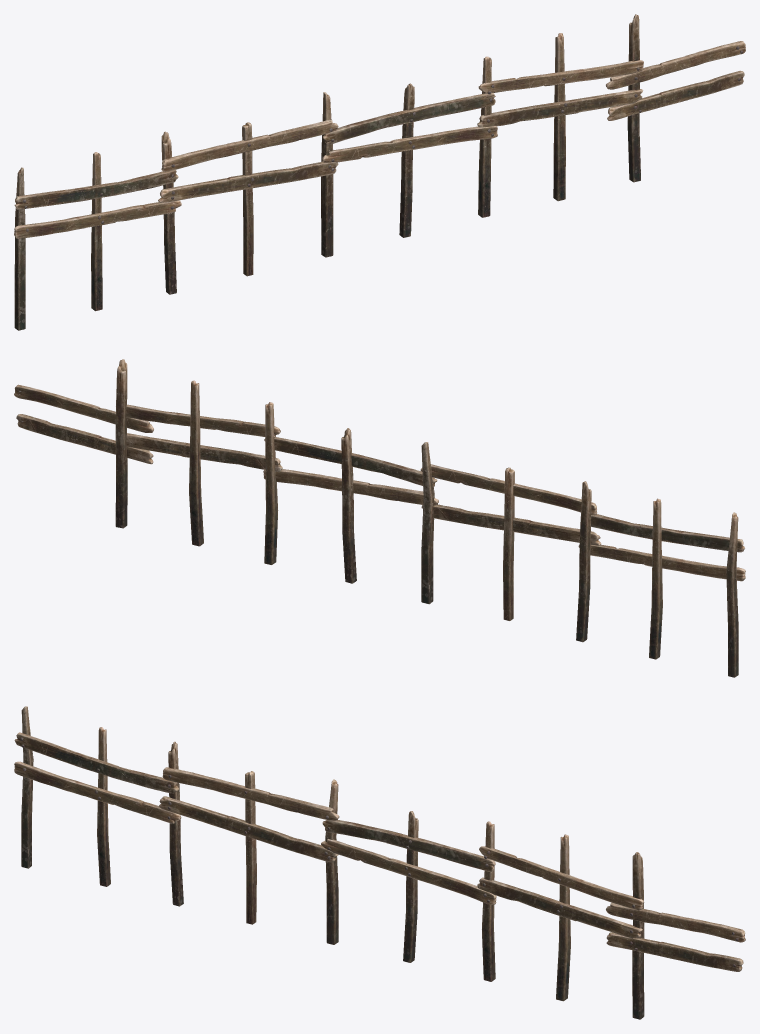
3 renders of one model, top to bottom at view 1: azimuth 30°, elevation 25°; view 2: azimuth 150°, elevation 25°; view 3: azimuth 330°, elevation 25°, orthographic.
Visible parts, largest first — view 1: SM_Wooden_Fence_01v2_8x8_LOD0; view 2: SM_Wooden_Fence_01v2_8x8_LOD0; view 3: SM_Wooden_Fence_01v2_8x8_LOD0.
Part boxes in pixels (left/top/right/bottom): SM_Wooden_Fence_01v2_8x8_LOD0: left=14, top=14, right=745, bottom=330; SM_Wooden_Fence_01v2_8x8_LOD0: left=14, top=359, right=745, bottom=677; SM_Wooden_Fence_01v2_8x8_LOD0: left=14, top=706, right=745, bottom=1019.
Size of the model in its own units: 8.05 by 1.76 by 0.1631.
Materials: 1 (1 with a texture image).
